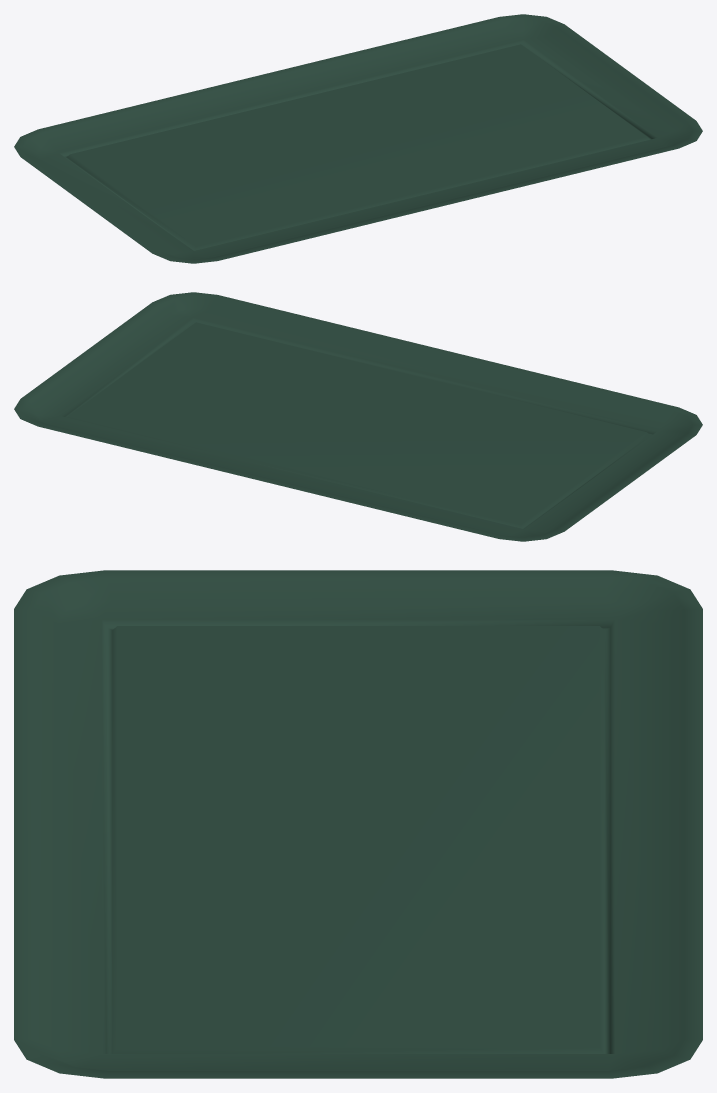
Rendered from ChubwayTray_SM.FBX.
3 views of the same model, one above another, from view 1: azimuth 30°, elevation 25°; view 2: azimuth 150°, elevation 25°; view 3: azimuth 270°, elevation 25° (orthographic). The views are drawn at different scales.
Parts seen in each view (by area): view 1: ChubwayTray_SM; view 2: ChubwayTray_SM; view 3: ChubwayTray_SM.
Part boxes in pixels (bbox=[...]): ChubwayTray_SM: bbox=[14, 14, 702, 263]; ChubwayTray_SM: bbox=[14, 292, 702, 541]; ChubwayTray_SM: bbox=[14, 570, 702, 1078].
Bounding box in the file's own units: 52.19 × 0.8772 × 29.89.
